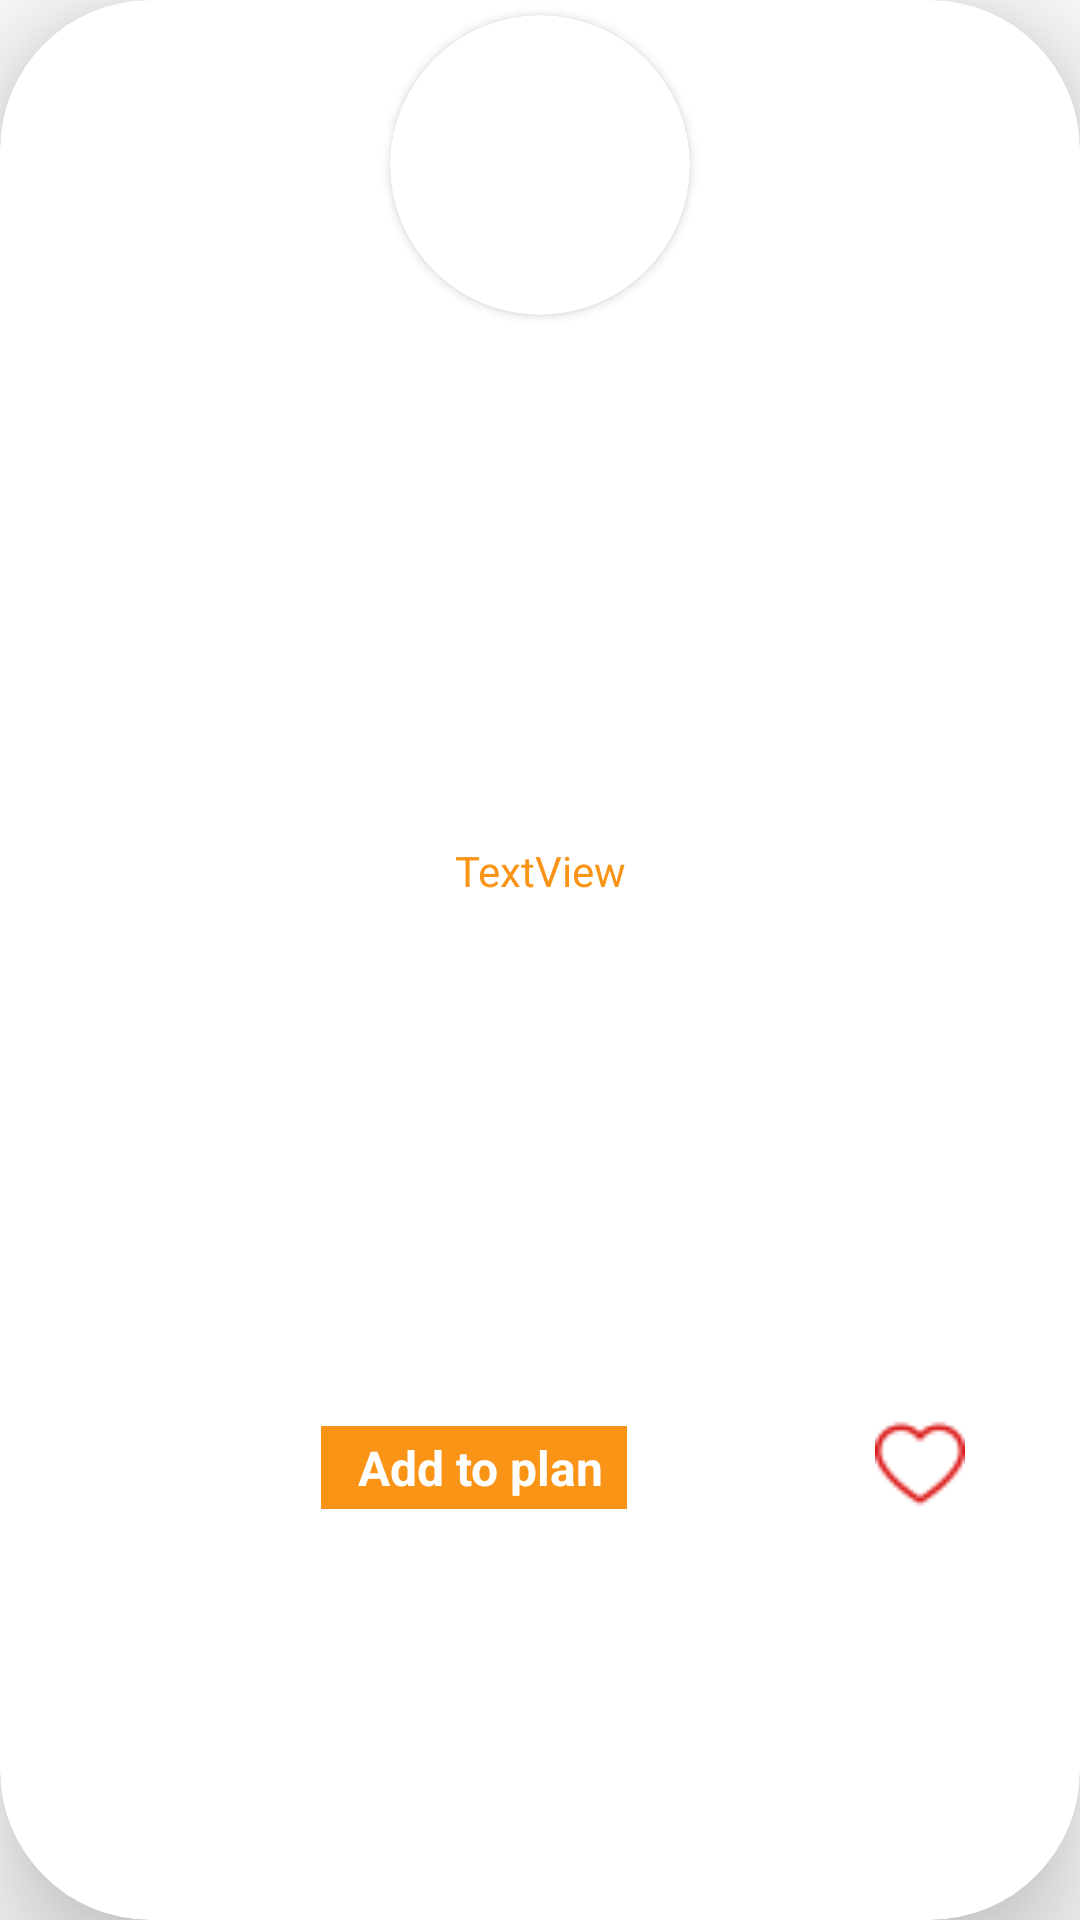

Point at icon controls on the screen. Image size 1080x1920, points as point (x, y).
fav: point (920, 1464)
